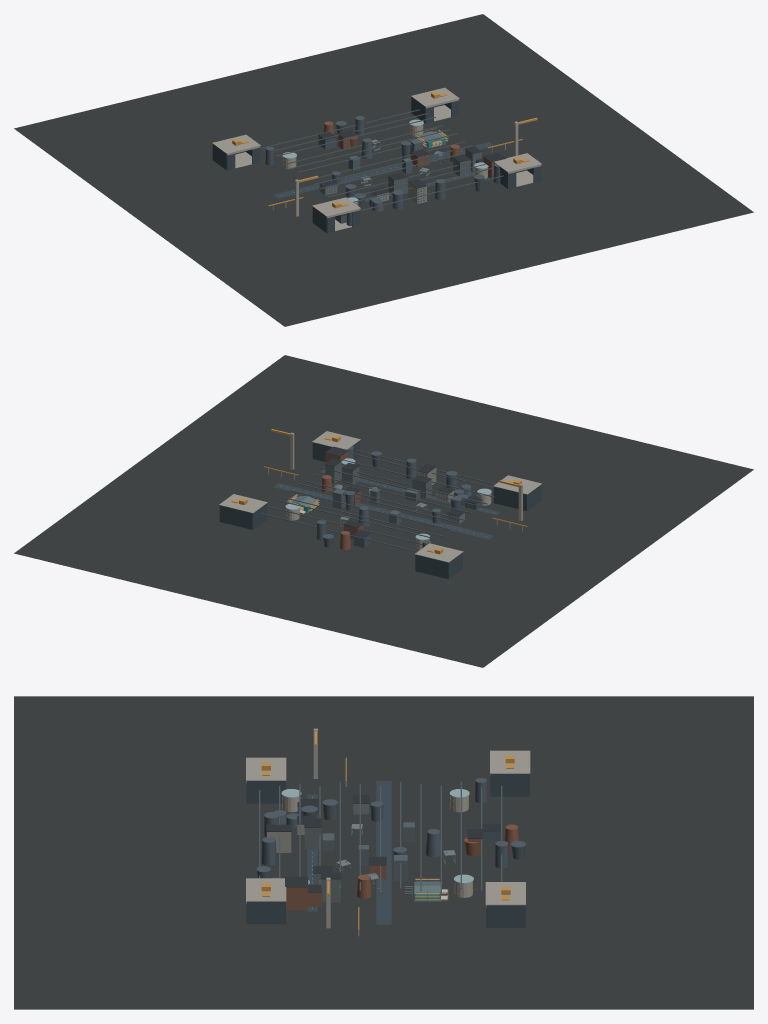
3 renders of one model, top to bottom at view 1: azimuth 30°, elevation 25°; view 2: azimuth 150°, elevation 25°; view 3: azimuth 270°, elevation 25°, orthographic. The views are drawn at different scales.
Visible parts, largest first — view 1: Runtime FPV textured terrain industrial, Runtime Material_1, Runtime industrial_2_0_0, Runtime industrial_1_0_0, Runtime Material_2, Runtime Material_4, Runtime Material_9, Runtime industrial_3_0_0, Runtime industrial_0_0_0; view 2: Runtime FPV textured terrain industrial, Runtime Material_1, Runtime industrial_1_0_0, Runtime industrial_2_0_0, Runtime Material_2, Runtime Material_9, Runtime Material_4, Runtime Material_32, Runtime industrial_3_0_0, Runtime industrial_0_0_0; view 3: Runtime FPV textured terrain industrial, Runtime industrial_1_0_0, Runtime Material_1, Runtime industrial_2_0_0, Runtime Material_2, Runtime Material_4, Runtime Material_32, Runtime Material_9, Runtime industrial_3_0_0, Runtime industrial_0_0_0, Runtime MCP Authored industrial brushed steel.
Part boxes in pixels (bbox=[...]): Runtime FPV textured terrain industrial: bbox=[14, 14, 753, 326]; Runtime Material_1: bbox=[260, 109, 503, 225]; Runtime industrial_2_0_0: bbox=[212, 87, 541, 231]; Runtime industrial_1_0_0: bbox=[212, 97, 541, 233]; Runtime Material_2: bbox=[318, 130, 506, 216]; Runtime Material_4: bbox=[323, 121, 493, 178]; Runtime Material_9: bbox=[388, 149, 481, 194]; Runtime industrial_3_0_0: bbox=[232, 92, 537, 208]; Runtime industrial_0_0_0: bbox=[15, 129, 753, 326]; Runtime FPV textured terrain industrial: bbox=[14, 355, 753, 667]; Runtime Material_1: bbox=[261, 446, 495, 551]; Runtime industrial_1_0_0: bbox=[219, 440, 541, 579]; Runtime industrial_2_0_0: bbox=[219, 431, 541, 562]; Runtime Material_2: bbox=[324, 446, 482, 538]; Runtime Material_9: bbox=[325, 462, 431, 498]; Runtime Material_4: bbox=[321, 451, 363, 549]; Runtime Material_32: bbox=[332, 488, 420, 524]; Runtime industrial_3_0_0: bbox=[231, 429, 527, 554]; Runtime industrial_0_0_0: bbox=[14, 470, 752, 667]; Runtime FPV textured terrain industrial: bbox=[14, 696, 753, 1009]; Runtime industrial_1_0_0: bbox=[246, 774, 529, 927]; Runtime Material_1: bbox=[256, 778, 525, 893]; Runtime industrial_2_0_0: bbox=[246, 728, 530, 936]; Runtime Material_2: bbox=[266, 794, 500, 892]; Runtime Material_4: bbox=[286, 824, 518, 910]; Runtime Material_32: bbox=[322, 822, 414, 881]; Runtime Material_9: bbox=[304, 828, 340, 902]; Runtime industrial_3_0_0: bbox=[261, 731, 514, 931]; Runtime industrial_0_0_0: bbox=[14, 1009, 753, 1009]; Runtime MCP Authored industrial brushed steel: bbox=[365, 873, 440, 902].
Bounding box in the file's own units: 880 × 64.39 × 880.
26 materials, 8 textured.
